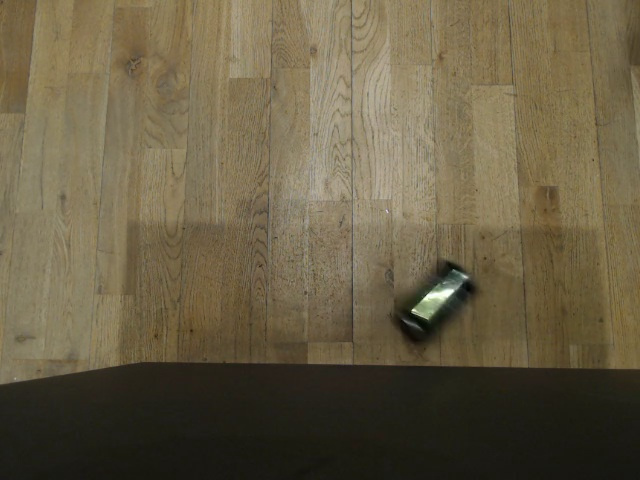beer: (390, 259, 477, 347)
